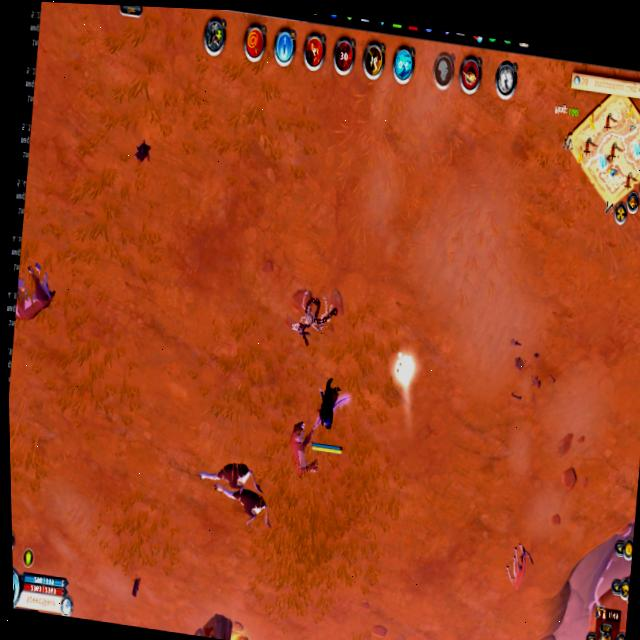mob: (190, 453, 282, 537), (283, 415, 323, 485)
ore: (498, 532, 543, 598)
red: (305, 370, 353, 460)
